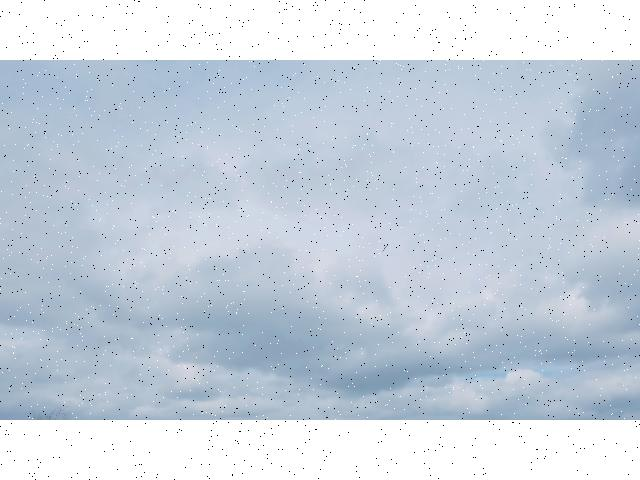Anti-Drone: (378, 241, 392, 256)
